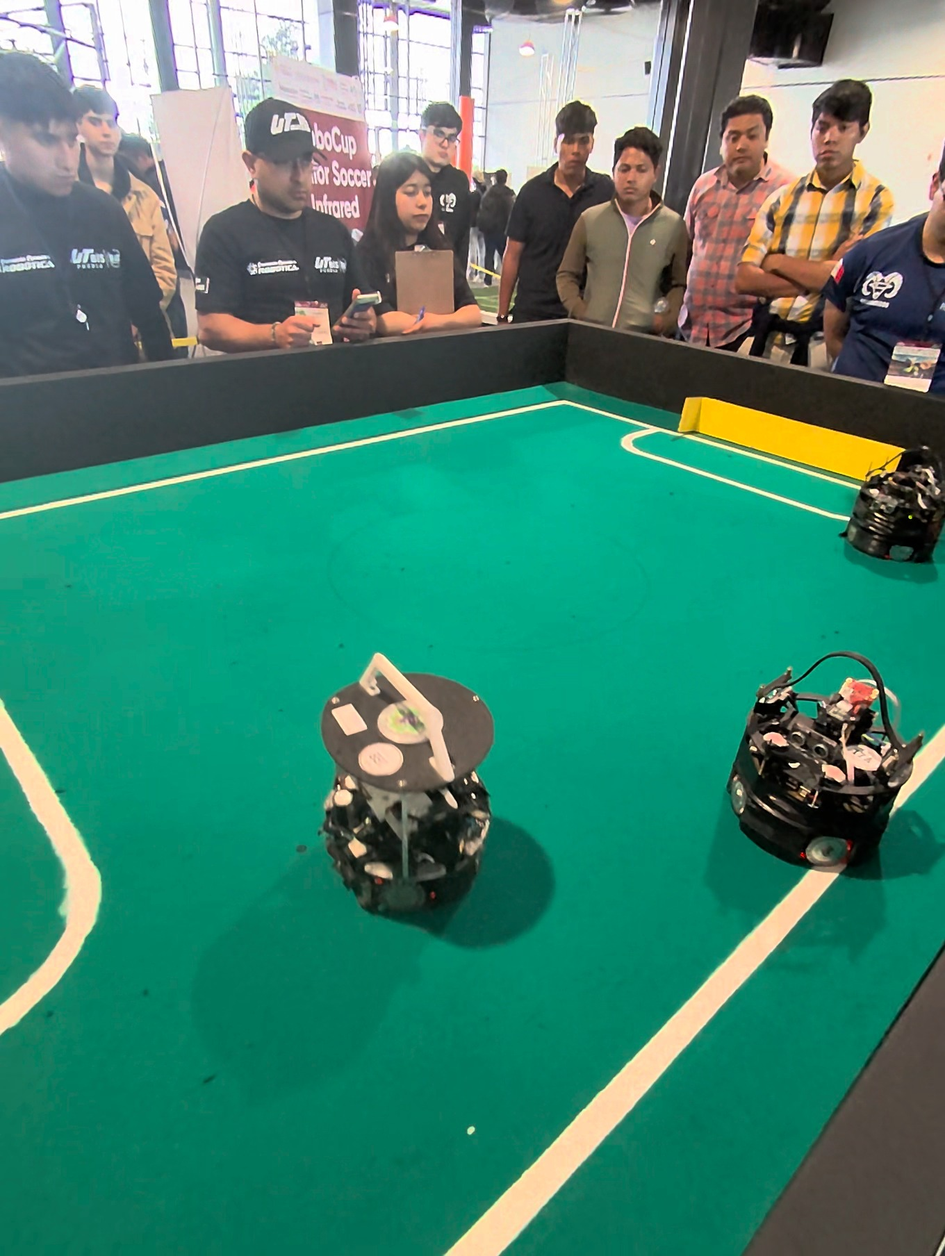Robot: (303, 627, 540, 947), (728, 637, 926, 881), (845, 438, 945, 570)
